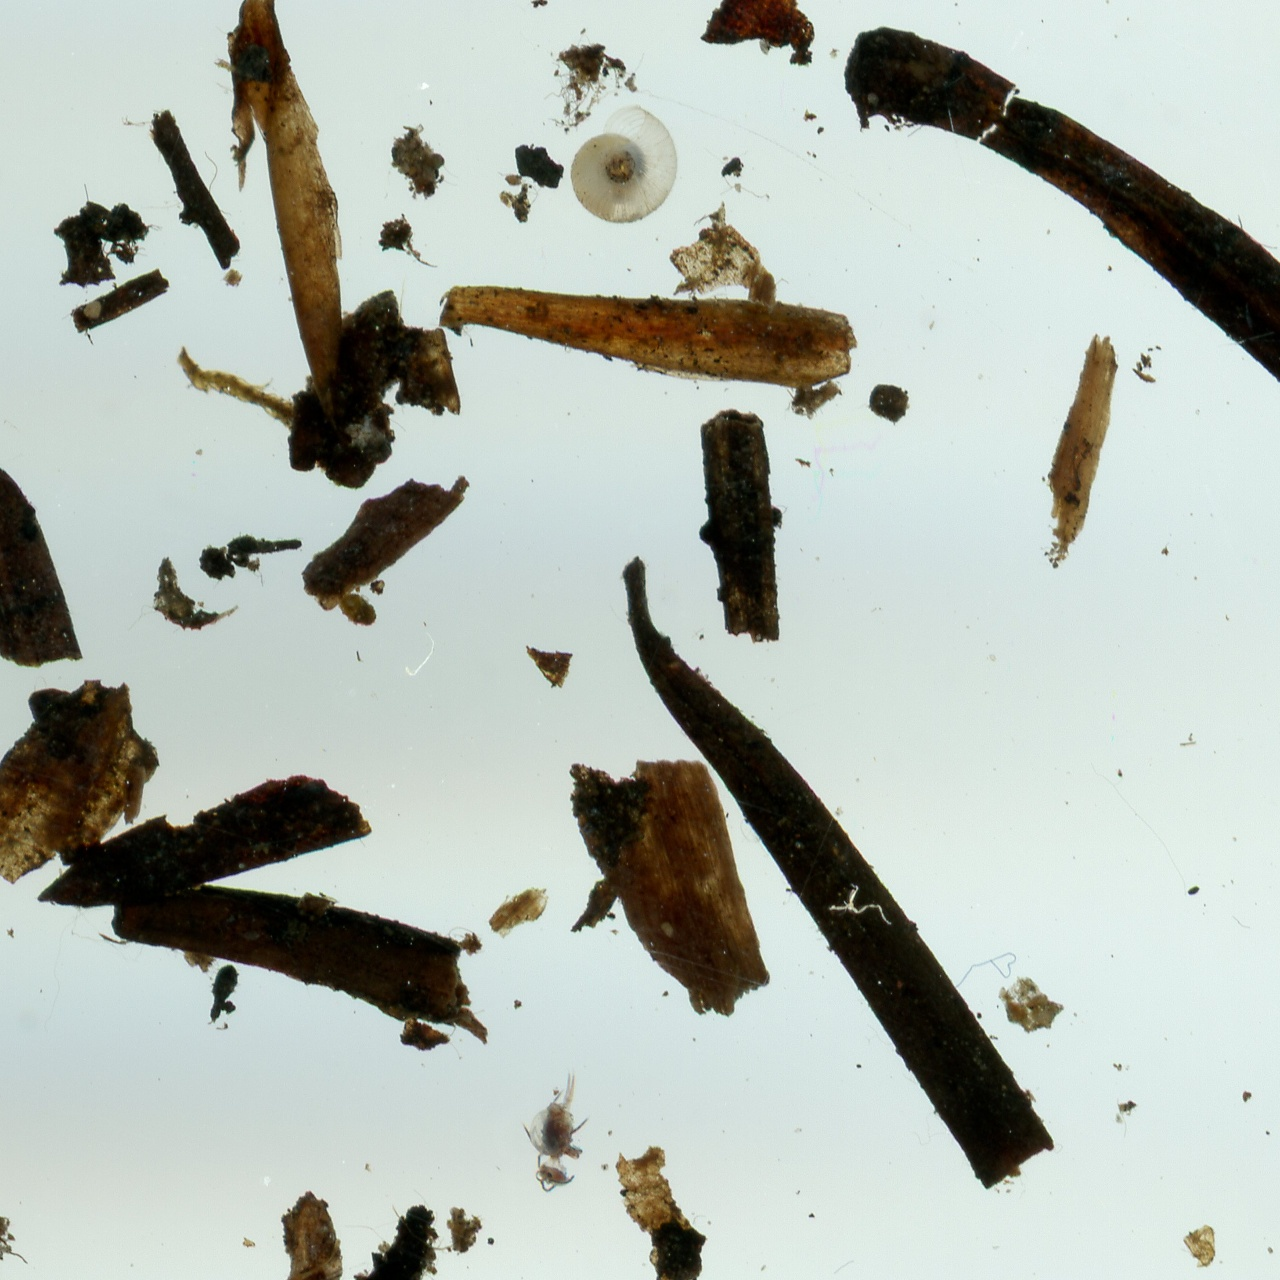arthropod: (563, 100, 682, 227), (519, 1060, 592, 1200)
